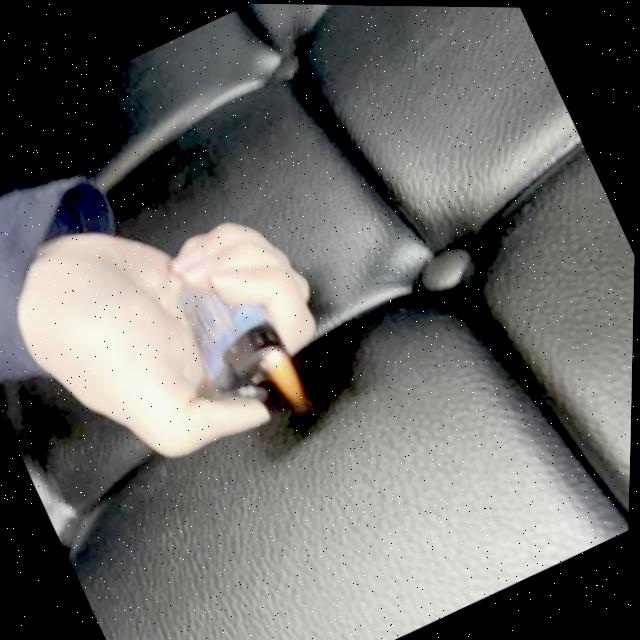Fire: (255, 341, 312, 414)
